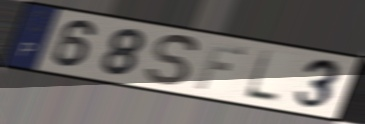3: (292, 56, 344, 111)
6: (51, 19, 97, 70)
8: (101, 27, 145, 77)
F: (193, 41, 249, 92)
L: (242, 48, 283, 105)
S: (144, 33, 201, 89)
